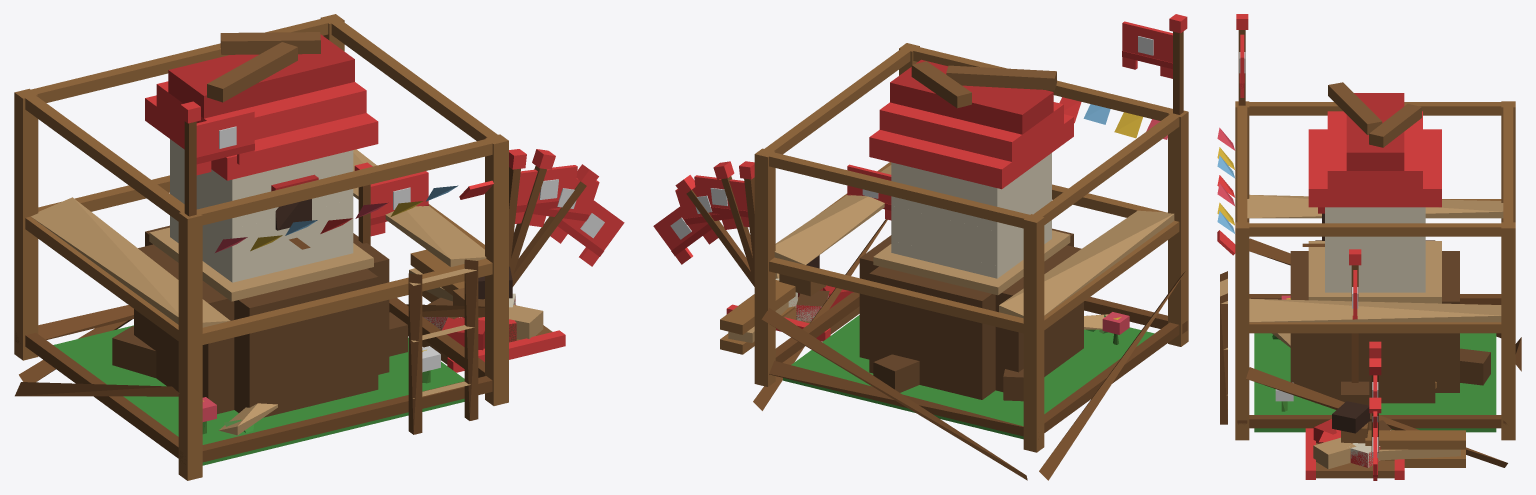
Rendered from robin-home.glb.
3 views of the same model, side by side, from view 1: azimuth 30°, elevation 25°; view 2: azimuth 150°, elevation 25°; view 3: azimuth 270°, elevation 25° (orthographic). The views are drawn at different scales.
Parts seen in each view (by area): view 1: scaffold-mesh, built-mesh, dismantle-75-mesh, dismantle-25-mesh, dismantle-50-mesh, scaffold-banner, dismantle-25-banner, banner, dismantle-75-banner, scaffold-flag-pole, dismantle-25-flag-pole, dismantle-50-flag-pole (+3 smaller); view 2: scaffold-mesh, built-mesh, dismantle-25-mesh, dismantle-75-mesh, dismantle-50-mesh, scaffold-banner, dismantle-25-banner, dismantle-75-banner, dismantle-50-banner, dismantle-25-flag-pole, scaffold-flag-pole, dismantle-50-flag-pole (+2 smaller); view 3: scaffold-mesh, built-mesh, dismantle-25-mesh, dismantle-75-mesh, dismantle-50-mesh, flag-pole, scaffold-flag-pole, scaffold-banner, dismantle-25-flag-pole.
Part boxes in pixels (x1,y1,x2,y2): scaffold-mesh: (14, 14, 508, 480); built-mesh: (145, 32, 422, 436); dismantle-75-mesh: (112, 199, 565, 465); dismantle-25-mesh: (53, 266, 565, 464); dismantle-50-mesh: (112, 299, 565, 465); scaffold-banner: (196, 110, 254, 175); dismantle-25-banner: (550, 192, 624, 266); banner: (370, 171, 428, 236); dismantle-75-banner: (515, 165, 577, 223); scaffold-flag-pole: (180, 101, 200, 216); dismantle-25-flag-pole: (512, 164, 598, 286); dismantle-50-flag-pole: (509, 149, 555, 277); scaffold-mesh: (720, 43, 1188, 480); built-mesh: (859, 59, 1107, 399); dismantle-25-mesh: (727, 255, 1154, 438); dismantle-75-mesh: (726, 206, 1095, 439); dismantle-50-mesh: (726, 273, 1023, 438); scaffold-banner: (1122, 21, 1172, 78); dismantle-25-banner: (653, 200, 718, 264); dismantle-75-banner: (694, 175, 749, 227); dismantle-50-banner: (675, 184, 736, 234); dismantle-25-flag-pole: (675, 175, 754, 286); scaffold-flag-pole: (1169, 14, 1187, 114); dismantle-50-flag-pole: (713, 161, 754, 280); scaffold-mesh: (1217, 101, 1521, 467); built-mesh: (1273, 82, 1459, 405); dismantle-25-mesh: (1254, 333, 1496, 476); dismantle-75-mesh: (1275, 240, 1489, 479); dismantle-50-mesh: (1272, 333, 1490, 476); flag-pole: (1349, 249, 1361, 382); scaffold-flag-pole: (1236, 14, 1248, 105); scaffold-banner: (1239, 34, 1245, 97); dismantle-25-flag-pole: (1369, 397, 1381, 452).
Bounding box in the file's own units: 2.45 × 1.8 × 1.51.
